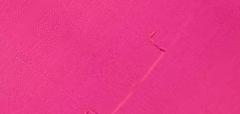snag: (145, 30, 169, 56)
